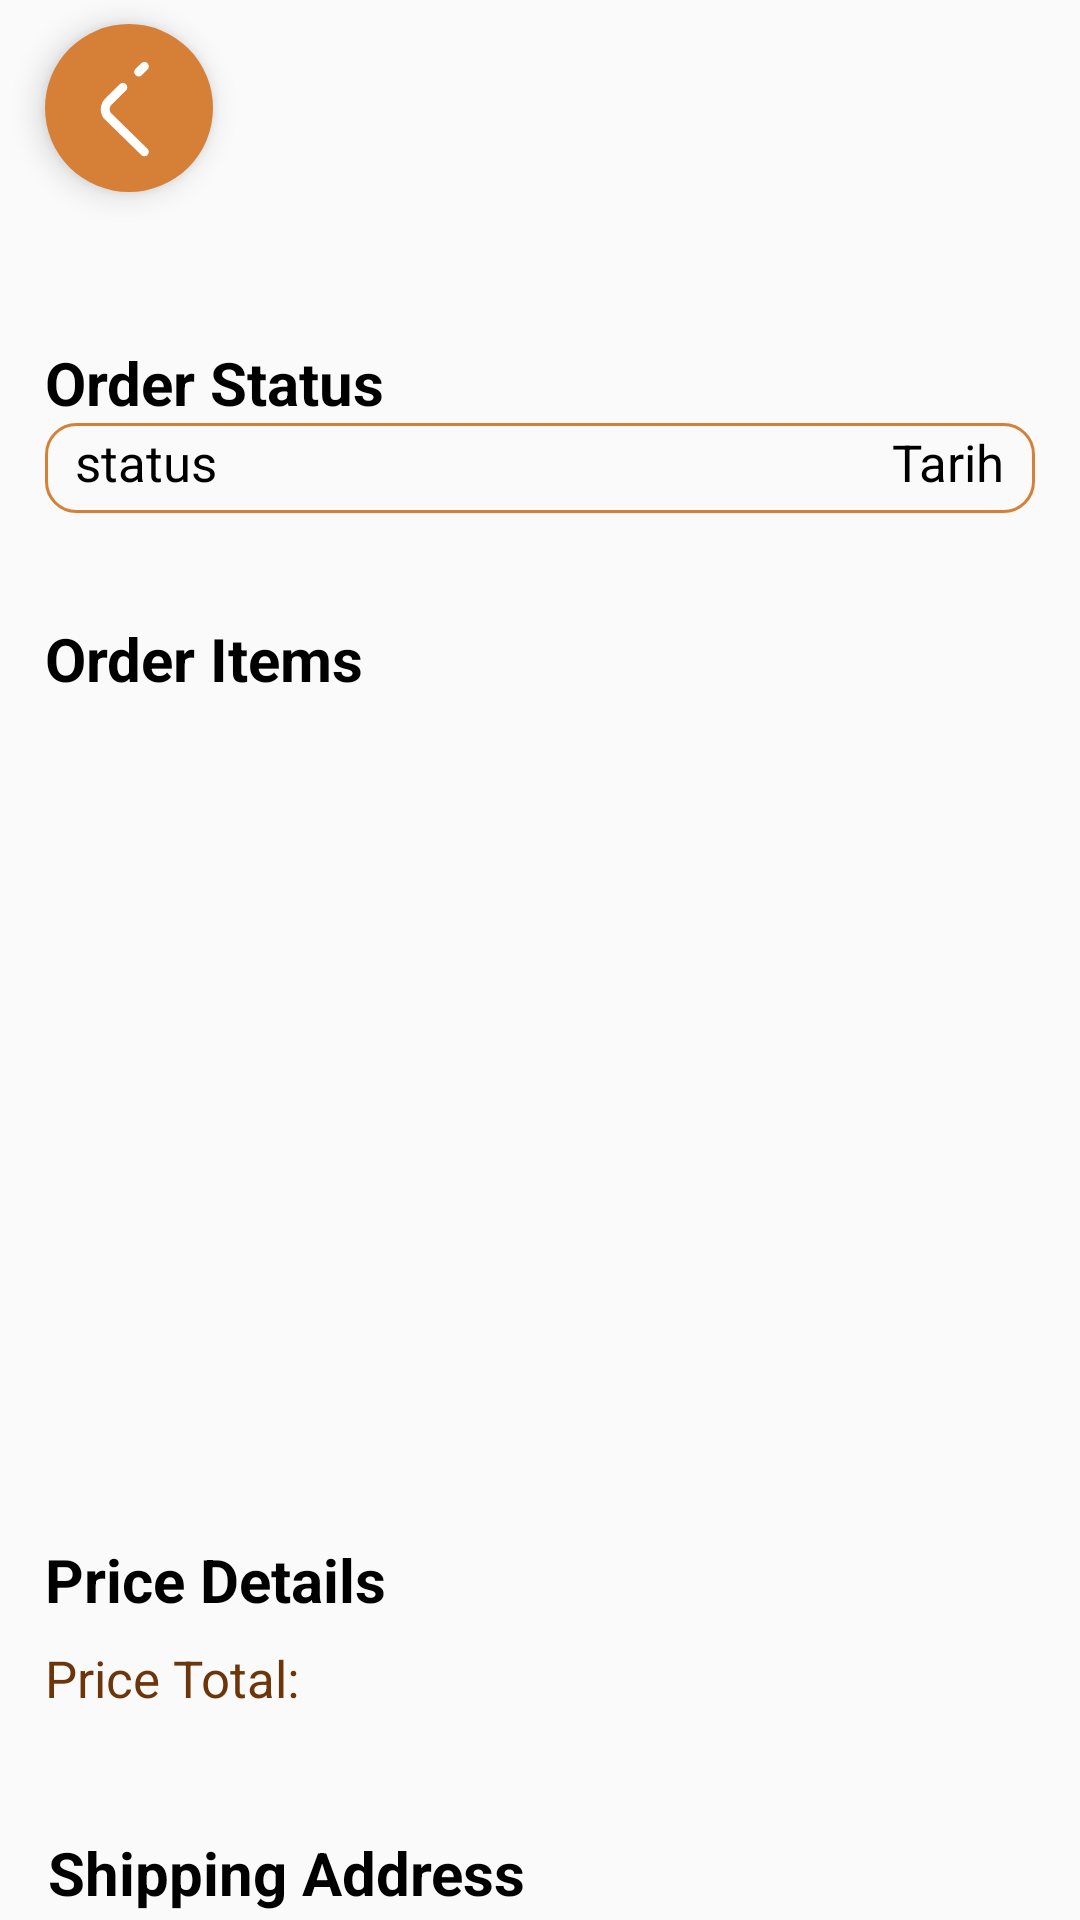

Point at icon controls on the screen. Image size 1080px×1920px, points as (x=x, y=y).
arrowleft: (x=129, y=108)
